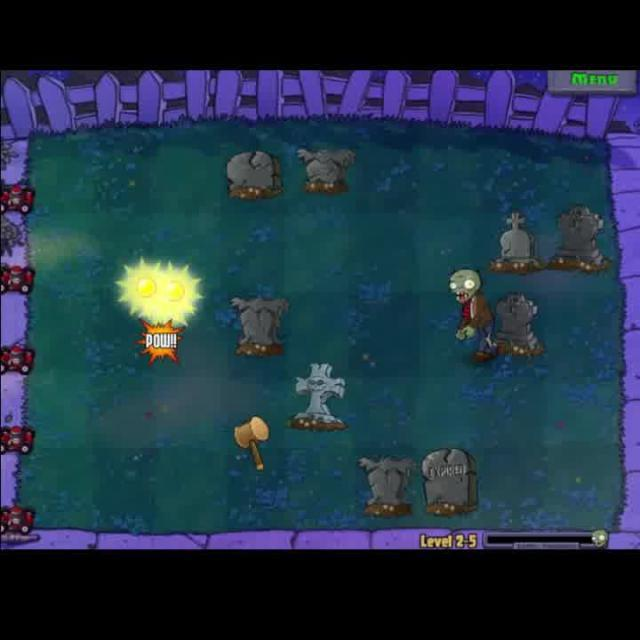sunshine: (147, 262, 204, 328), (111, 258, 171, 314)
zombies: (444, 266, 506, 366)
